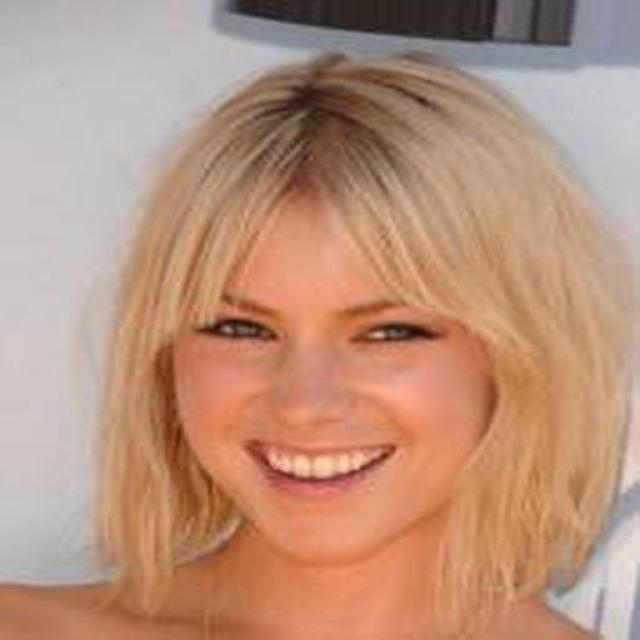bareface: (128, 70, 626, 580)
